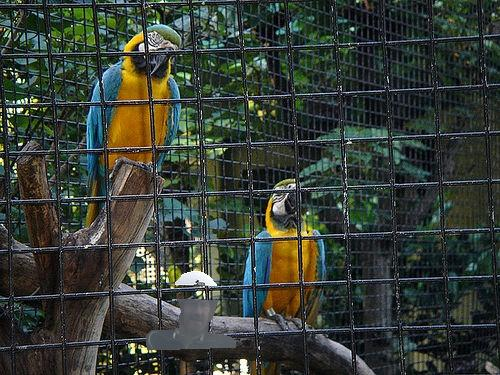tampered: (147, 272, 236, 350)
